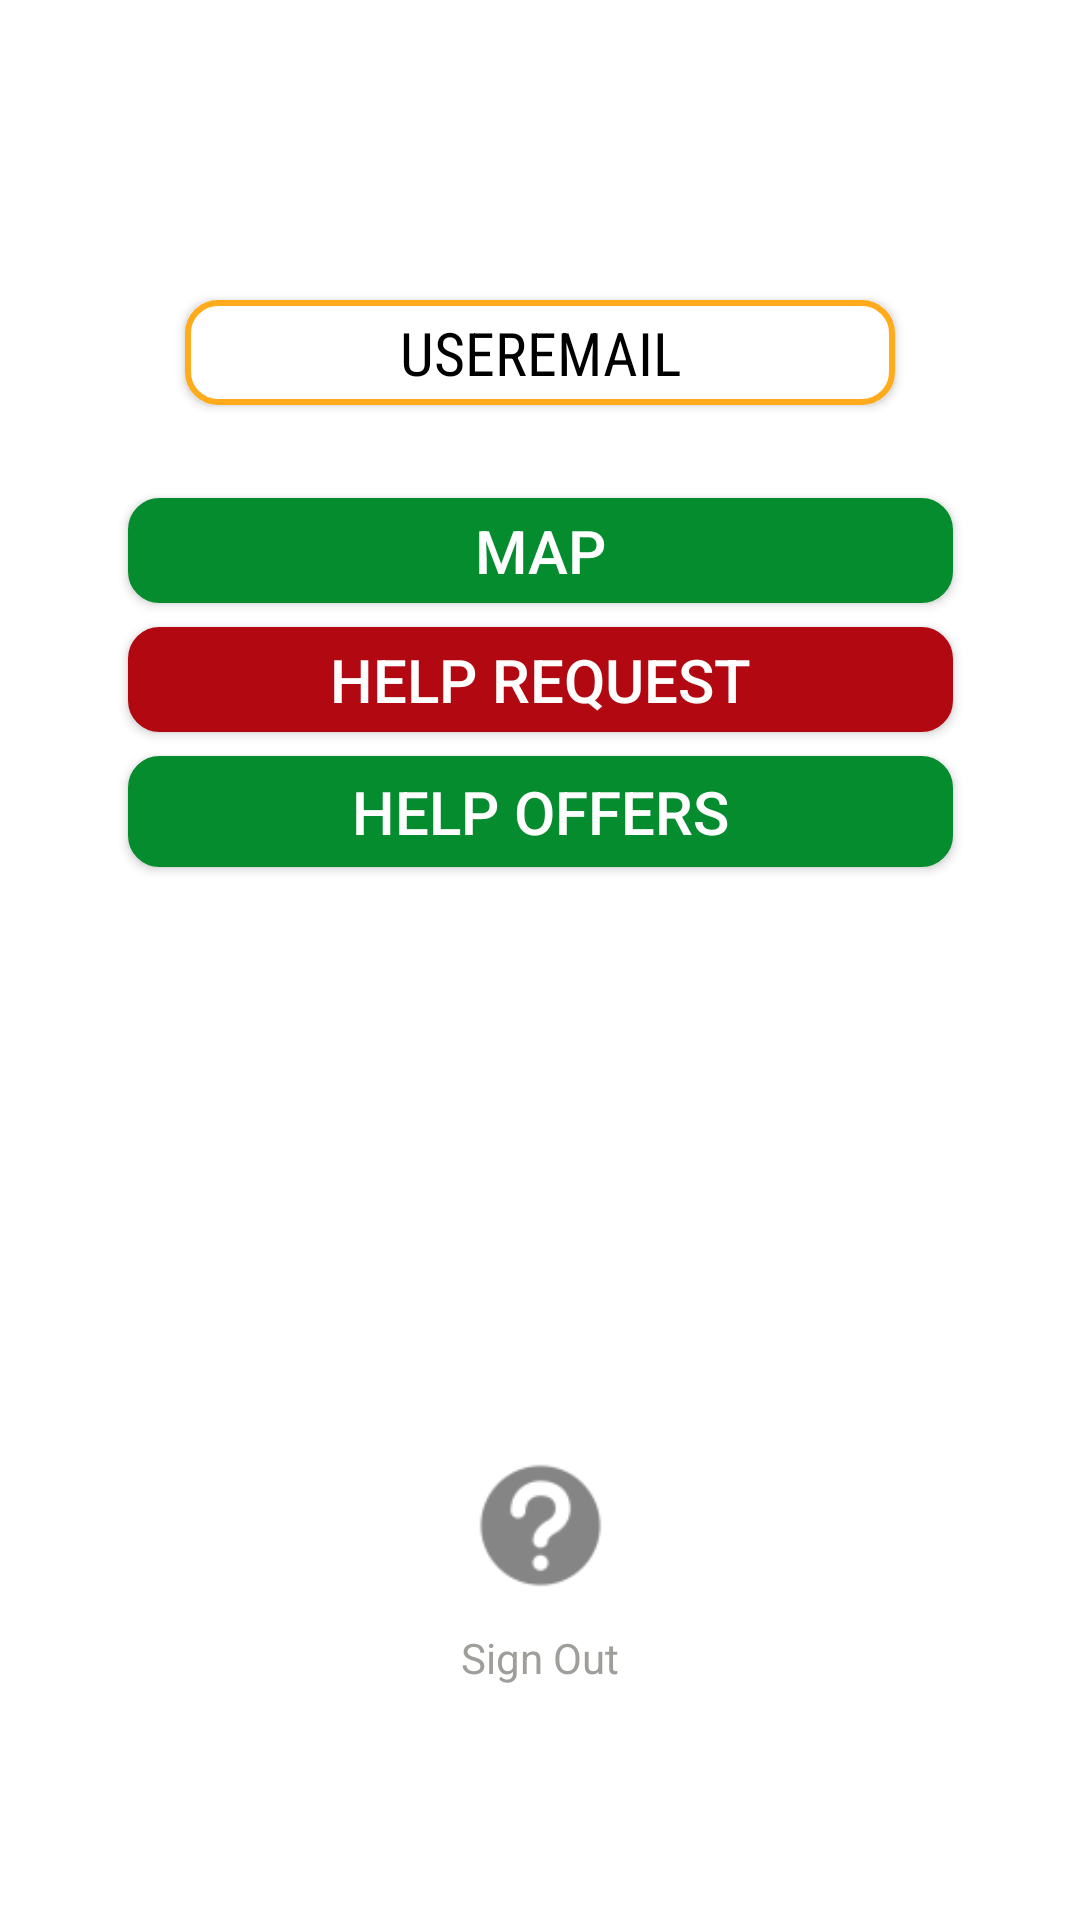

Point at icon controls on the screen. Image size 1080w x 1920h, points as (x=x, y=y).
questionmark: (x=540, y=1525)
